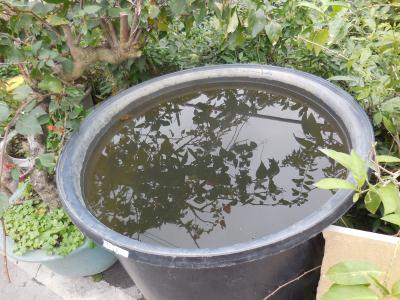bucket: (51, 60, 377, 299)
